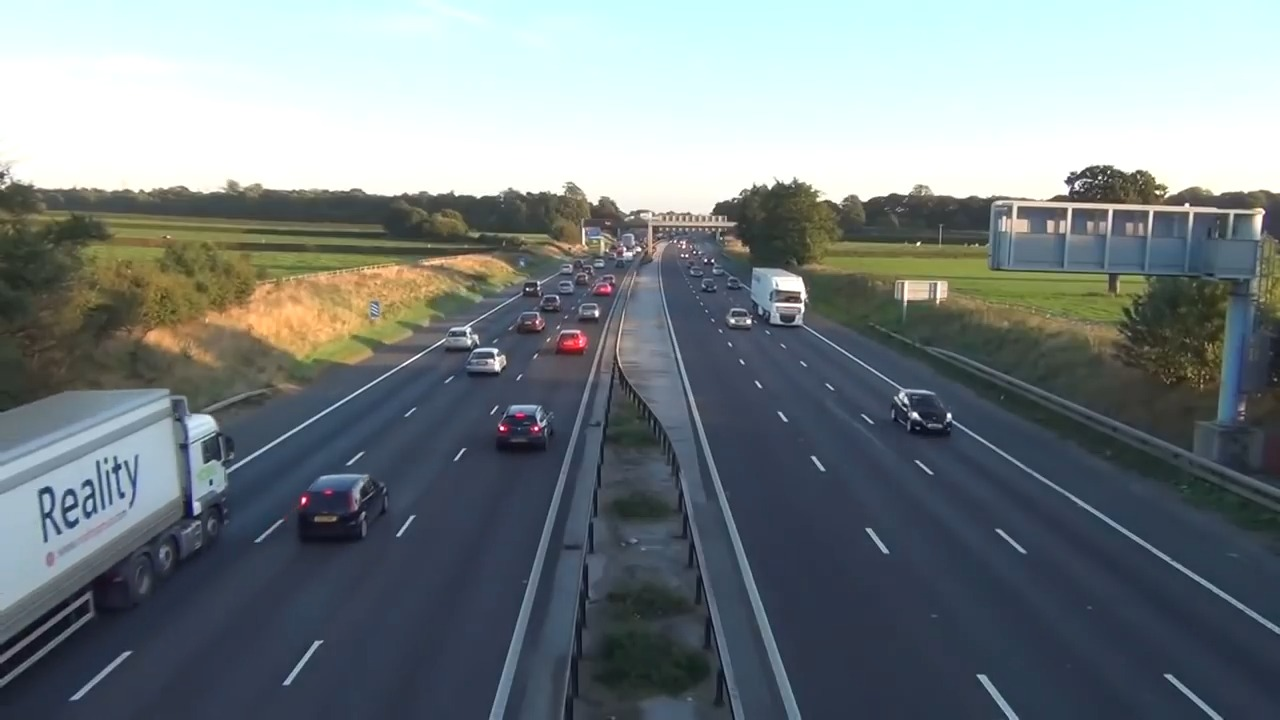truck: (752, 267, 810, 331)
